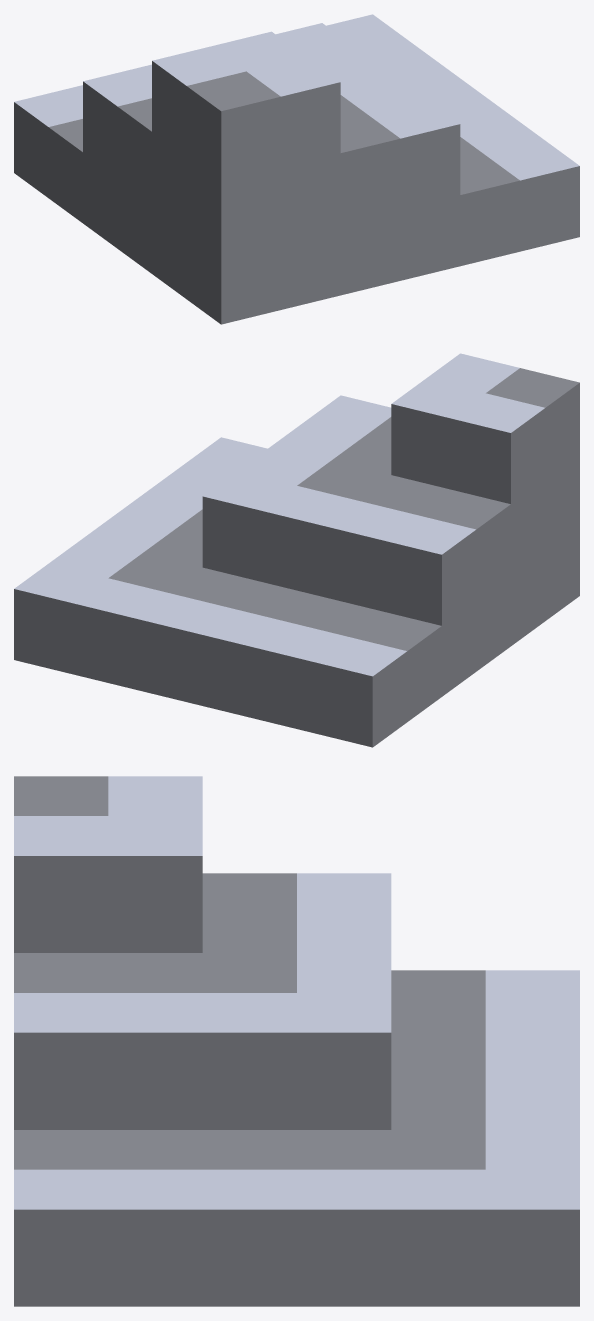
File: spaceInterior_008.obj
3 views of the same model, one above another, from view 1: azimuth 30°, elevation 25°; view 2: azimuth 150°, elevation 25°; view 3: azimuth 270°, elevation 25° (orthographic). The views are drawn at different scales.
Visible parts, largest first — view 1: Mesh1 Group1 Model; view 2: Mesh1 Group1 Model; view 3: Mesh1 Group1 Model.
Part boxes in pixels (left/top/right/bottom): Mesh1 Group1 Model: left=14, top=14, right=579, bottom=324; Mesh1 Group1 Model: left=14, top=353, right=579, bottom=747; Mesh1 Group1 Model: left=14, top=776, right=579, bottom=1306.
Bounding box in the file's own units: 0.2475 × 0.1406 × 0.2475.
